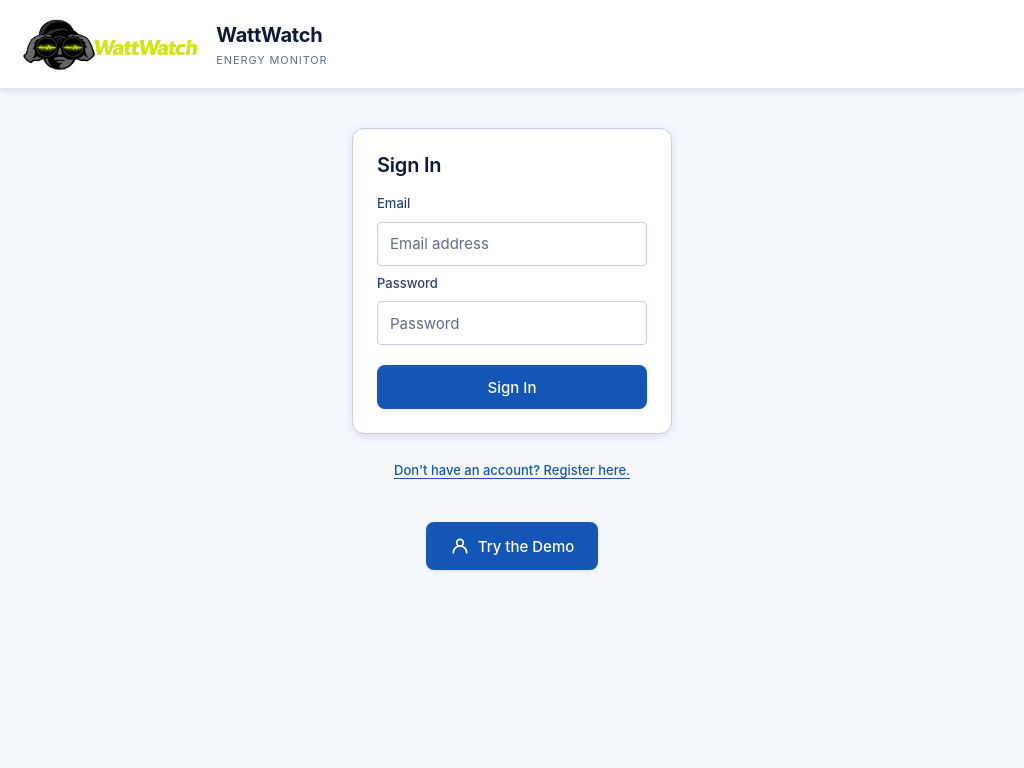
Test case: Login / Register toggle on Home › switches from Sign In to Create Account when toggle is clicked
The image size is (1024, 768).
Expected: the heading "Sign In" is shown, [377,153,441,178]
Click the button "Don't have an account? Register here.": (512, 470) [394,450,630,490]
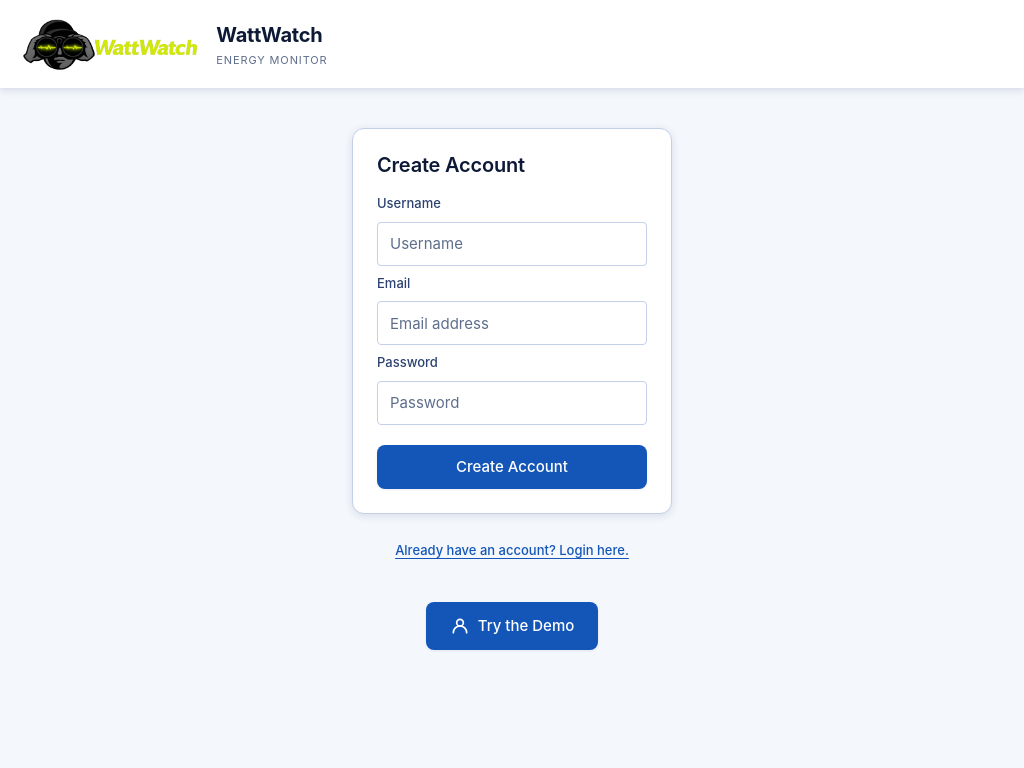
Now the heading "Create Account" is shown, box [377,153,525,178]
Now the heading "Sign In" is gone
